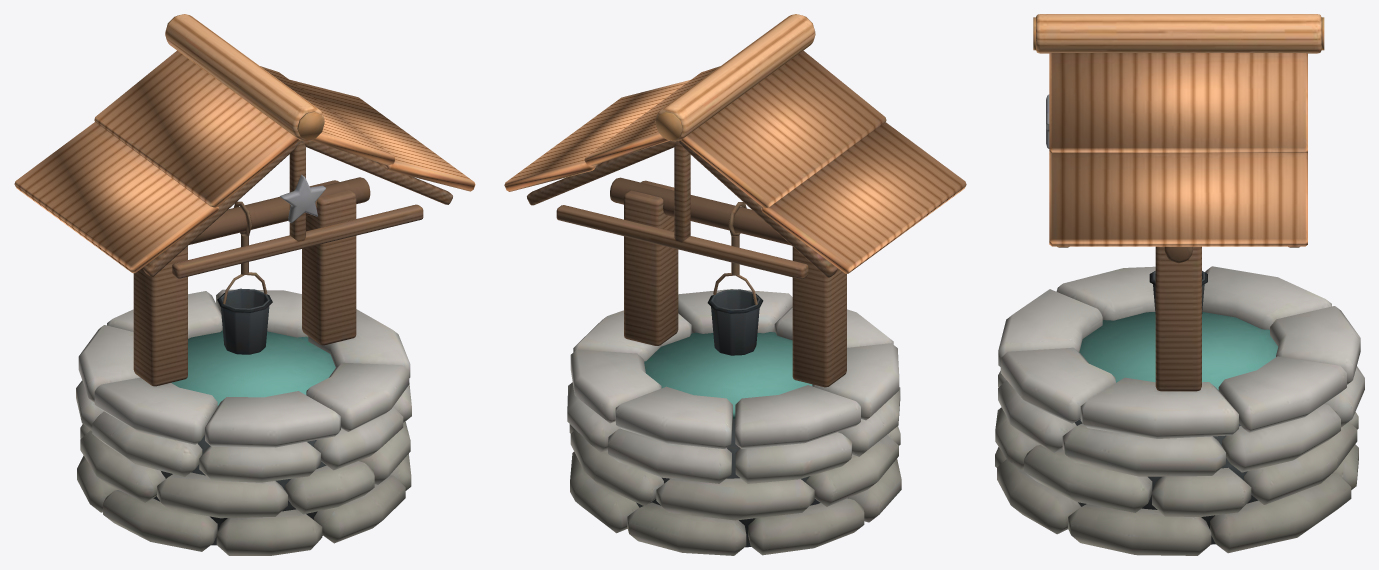
The model's file is well_1_mid.glb.
3 renders of one model, left to right at view 1: azimuth 30°, elevation 25°; view 2: azimuth 150°, elevation 25°; view 3: azimuth 270°, elevation 25°, orthographic. The views are drawn at different scales.
Parts seen in each view (by area): view 1: well_1; view 2: well_1; view 3: well_1.
Part boxes in pixels (x1,y1,x2,y2): well_1: (14, 14, 475, 555); well_1: (504, 14, 966, 555); well_1: (995, 14, 1364, 555).
Bounding box in the file's own units: 1.89 × 2.24 × 1.6.
1 material, 1 textured.
